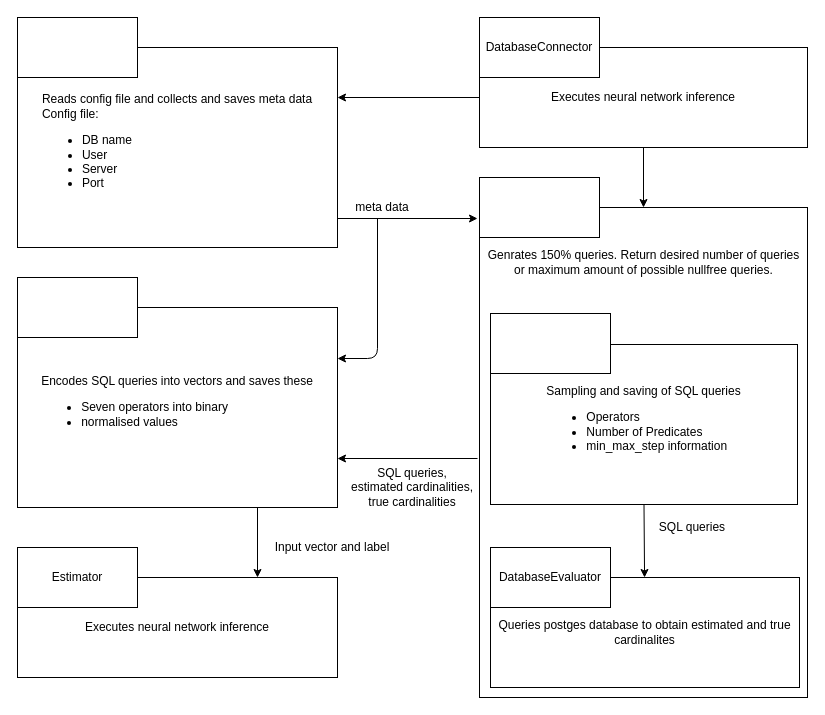
The diagram is 825 pixels wide and 715 high, and some of its shapes have lost their labels. The centre of each missing label's shape, as x and y in pixels:
MetaCollector: point (77, 47)
QueryCommunicator: point (539, 207)
SQLGenerator: point (550, 343)
Vectorizer: point (77, 307)
